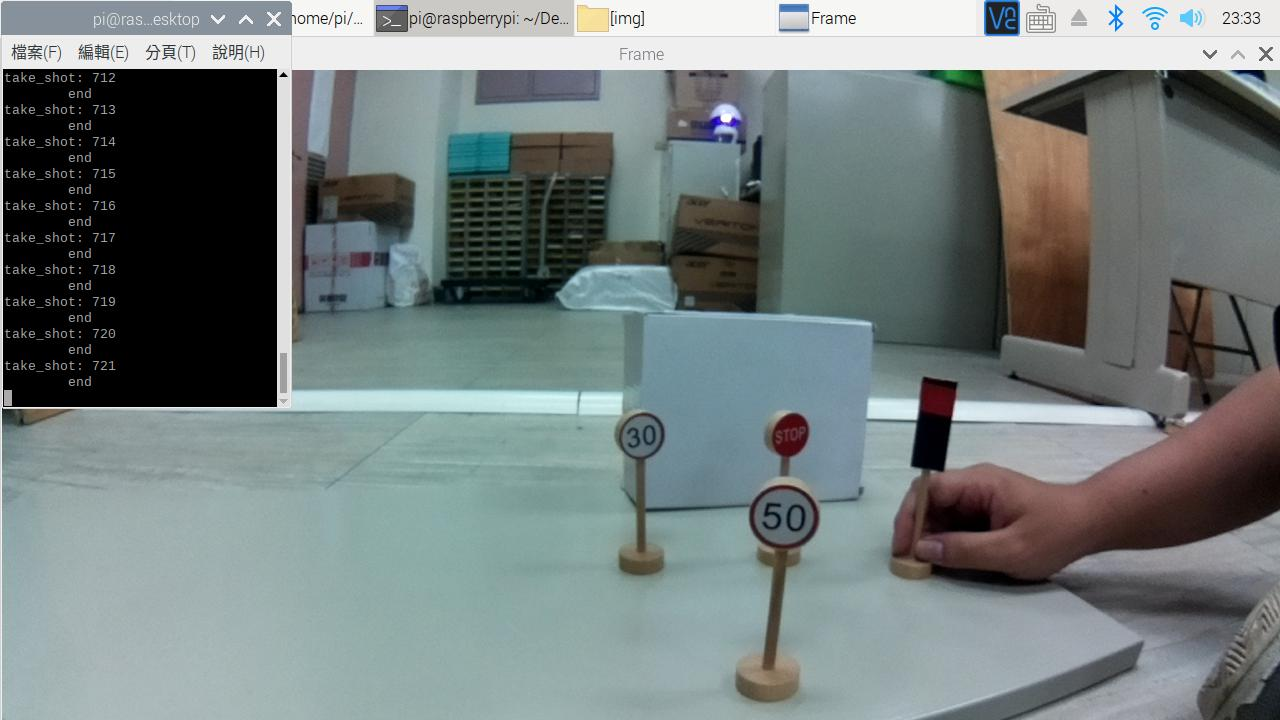Red: (908, 373, 956, 475)
Speed30: (609, 405, 668, 462)
Speed50: (738, 481, 830, 553)
Stop: (763, 407, 814, 459)
